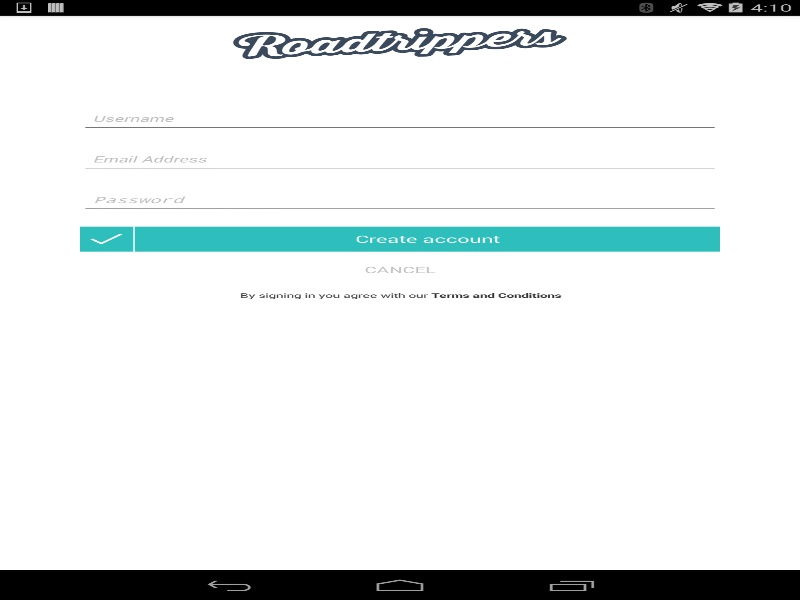Button: (80, 254, 720, 284)
Input: (80, 185, 720, 214), (80, 104, 720, 132), (80, 145, 720, 173)
